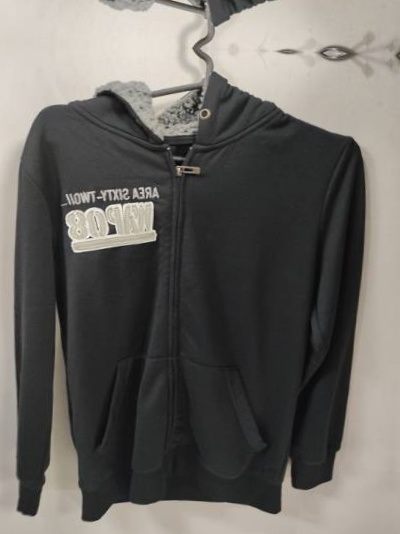Hoodie: (0, 58, 373, 529), (0, 0, 391, 38)
